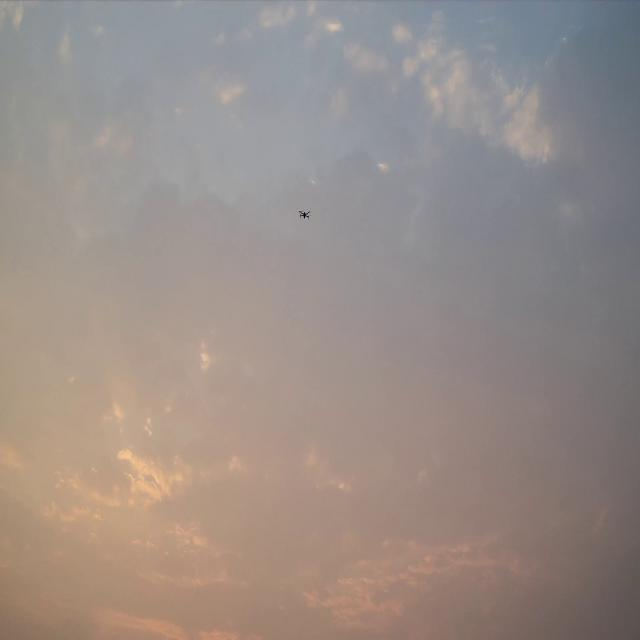drone: (298, 208, 312, 220)
